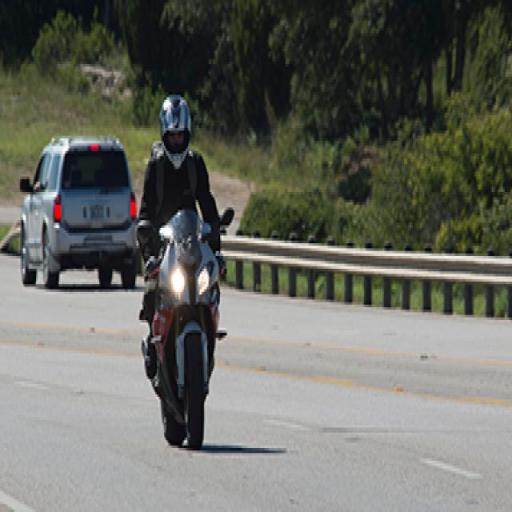Helmet: (160, 96, 191, 168)
Motor: (147, 210, 223, 449)
